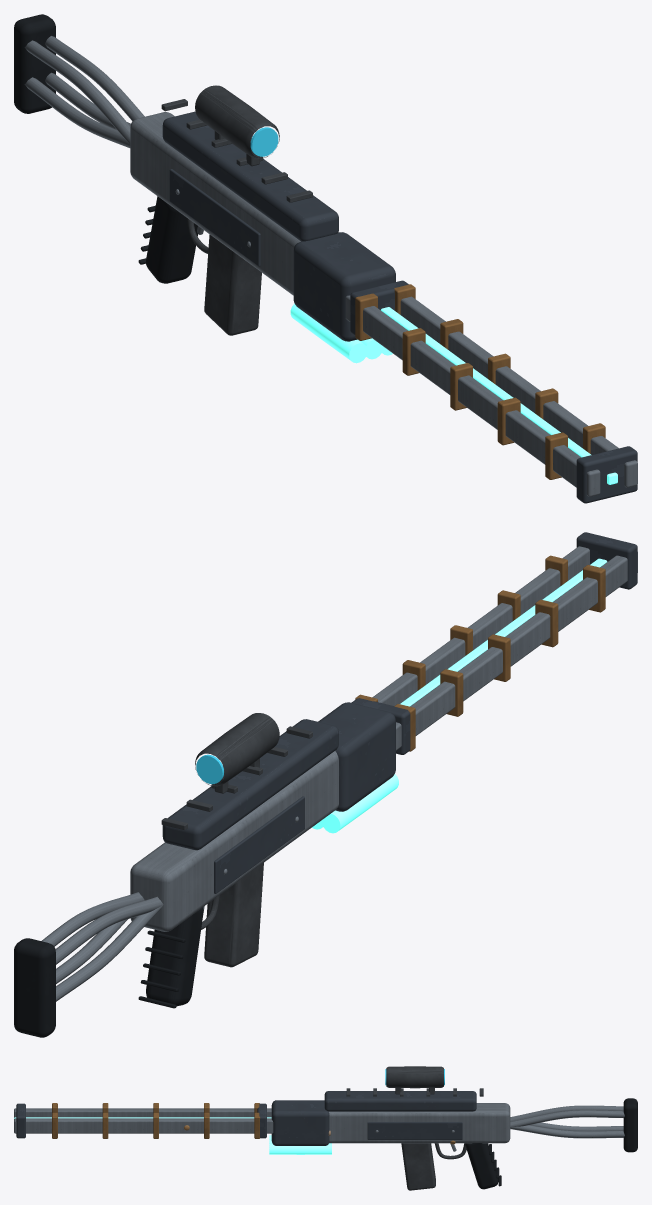
File: railgun.lod1.glb
3 views of the same model, one above another, from view 1: azimuth 30°, elevation 25°; view 2: azimuth 150°, elevation 25°; view 3: azimuth 270°, elevation 25° (orthographic). The views are drawn at different scales.
Parts seen in each view (by area): view 1: alloy / machined anodized alloy, ceramic / ceramic composite panel, darksteel / oil-blackened fittings, polymer / stippled polymer, bronze / cast bronze with patina, energy / emissive field channel; view 2: alloy / machined anodized alloy, ceramic / ceramic composite panel, darksteel / oil-blackened fittings, polymer / stippled polymer, bronze / cast bronze with patina, energy / emissive field channel; view 3: alloy / machined anodized alloy, ceramic / ceramic composite panel, darksteel / oil-blackened fittings, polymer / stippled polymer, bronze / cast bronze with patina, energy / emissive field channel.
Part boxes in pixels (x1,y1,x2,y2): alloy / machined anodized alloy: (24,36,637,496); ceramic / ceramic composite panel: (162,111,637,503); darksteel / oil-blackened fittings: (161,85,312,335); polymer / stippled polymer: (14,14,197,283); bronze / cast bronze with patina: (355,284,605,479); energy / emissive field channel: (290,303,617,484); alloy / machined anodized alloy: (41,546,637,1001); ceramic / ceramic composite panel: (162,532,637,893); darksteel / oil-blackened fittings: (161,713,312,967); polymer / stippled polymer: (14,907,203,1037); bronze / cast bronze with patina: (355,555,605,751); energy / emissive field channel: (312,558,607,833); alloy / machined anodized alloy: (14,1103,624,1151); ceramic / ceramic composite panel: (16,1091,476,1145); darksteel / oil-blackened fittings: (346,1066,483,1190); polymer / stippled polymer: (465,1098,637,1189); bronze / cast bronze with patina: (52,1103,260,1138); energy / emissive field channel: (14,1117,331,1154).
Size of the model in its own units: 0.072 by 0.2751 by 1.29.
Materials: 9 (5 with a texture image).
